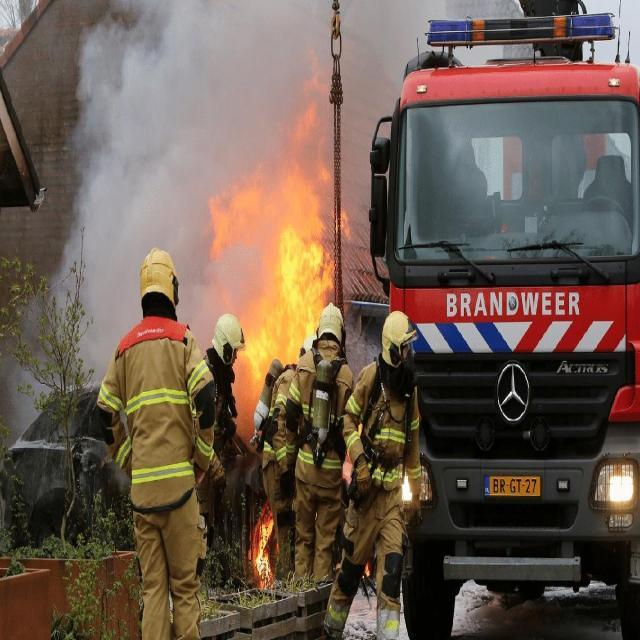Fire: (208, 100, 351, 458), (254, 520, 274, 592)
Smoke: (0, 0, 505, 438)
